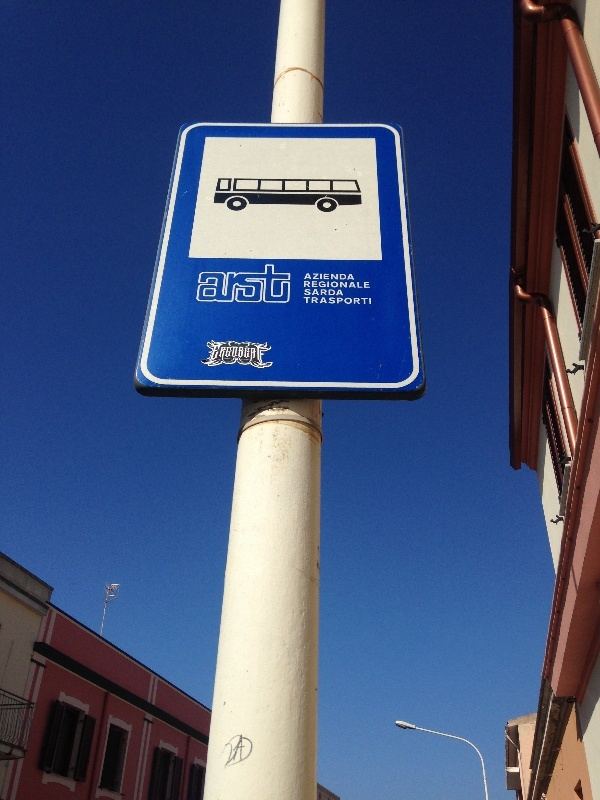text: (209, 262, 224, 307), (225, 262, 240, 307), (241, 262, 256, 307), (257, 262, 272, 307), (273, 262, 288, 307), (200, 262, 208, 307), (241, 343, 257, 362), (225, 343, 240, 362), (213, 343, 224, 362), (289, 262, 292, 307), (305, 280, 320, 289), (321, 280, 336, 289), (337, 280, 352, 289), (353, 280, 368, 289), (305, 288, 320, 297), (321, 288, 336, 297), (321, 273, 336, 281), (337, 273, 352, 281), (305, 297, 320, 305), (321, 297, 336, 305), (337, 297, 352, 305), (353, 297, 368, 305), (306, 273, 320, 281), (337, 288, 344, 297), (241, 734, 243, 761), (369, 297, 372, 305), (369, 280, 371, 289), (353, 273, 355, 281), (303, 297, 304, 305)
